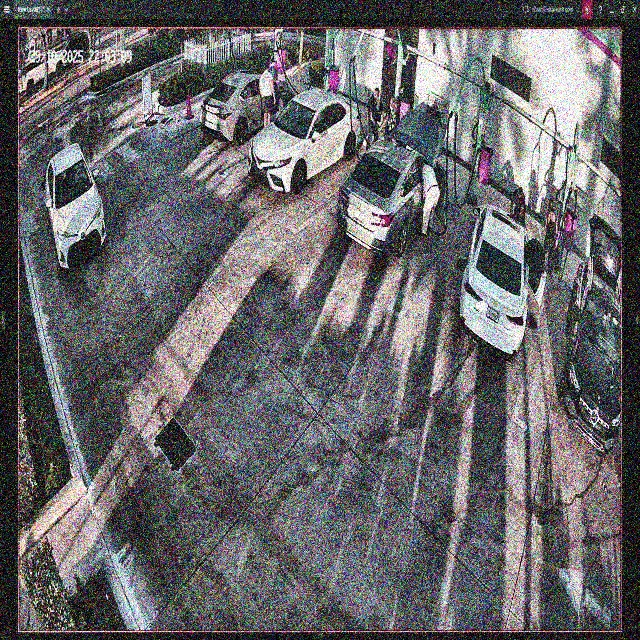Car: (336, 110, 449, 255), (455, 204, 546, 357), (252, 88, 361, 195), (203, 70, 294, 143)
